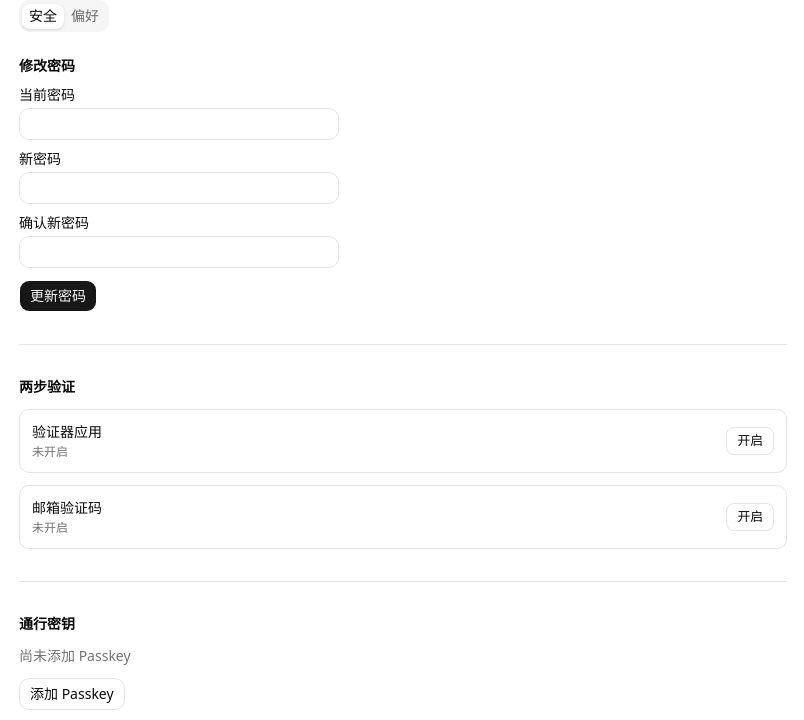
it: 设置页 › 修改时区后启用保存，点击保存统一提交
Click the tab "偏好".
click(85, 16)  # box [64,4,106,28]
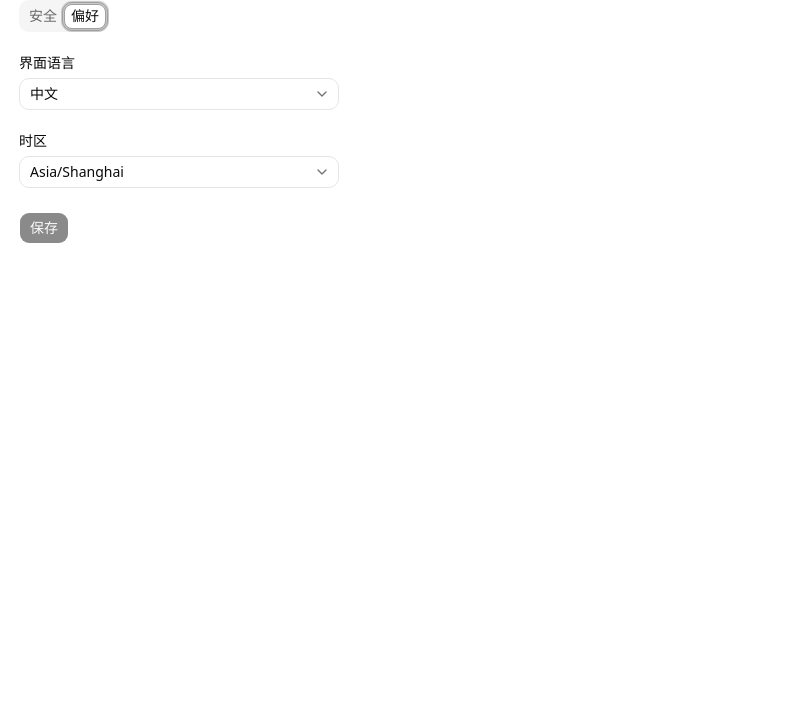
Check: the button "保存" is disabled, box [19,212,69,244]
Click the dropdown named "时区".
click(77, 172)  # box [19,156,339,188]
(page scrolled)
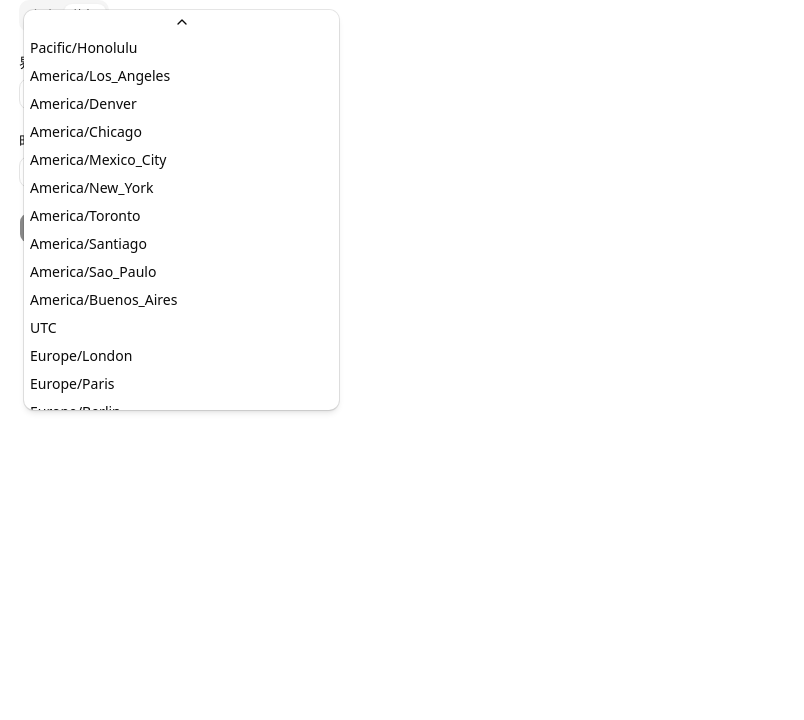
Click the option "America/New_York".
click(92, 188)  # box [30,178,154,197]
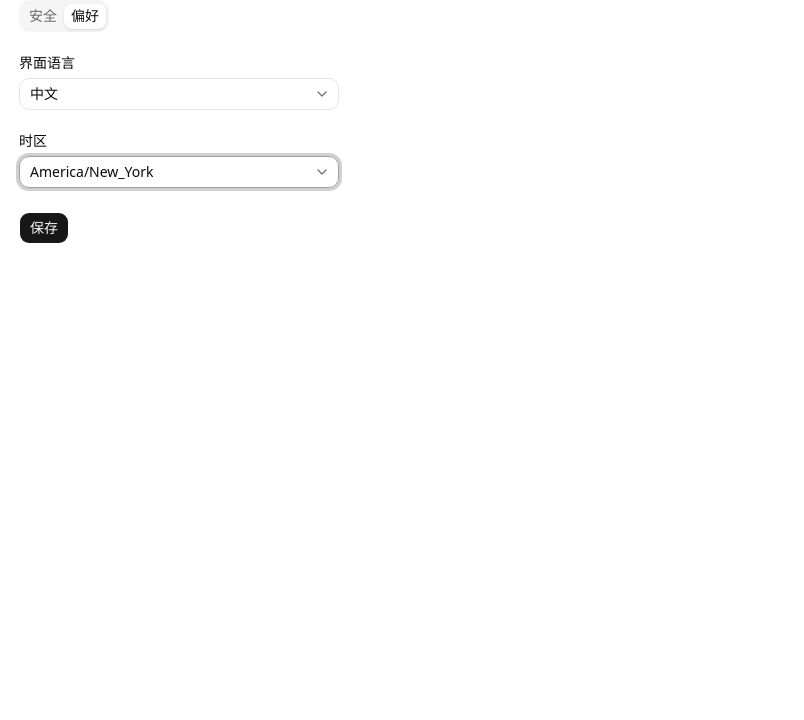
Check: the button "保存" is enabled
Click the button "保存".
click(44, 228)  # box [19,212,69,244]
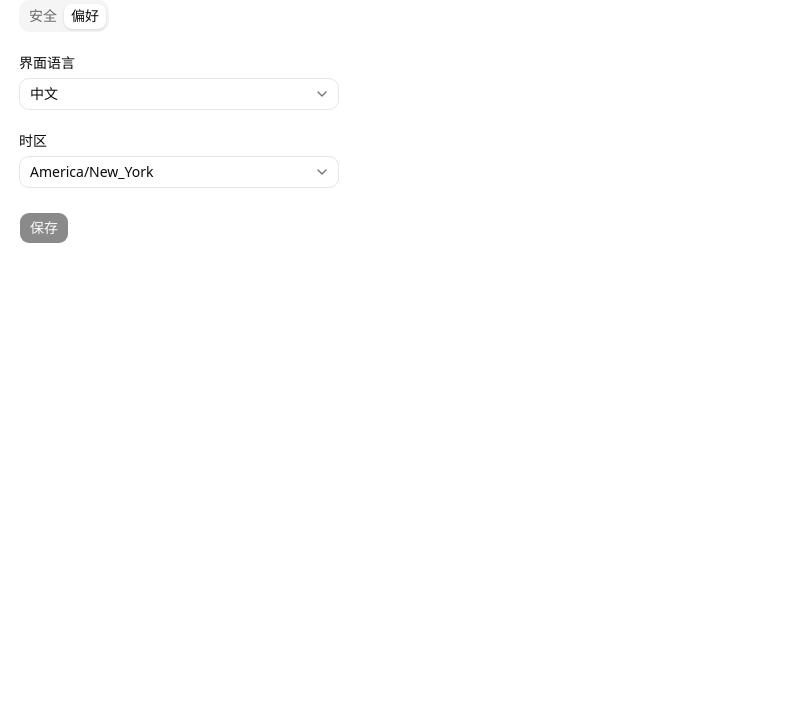
Check: the button "保存" is disabled, box [19,212,69,244]
